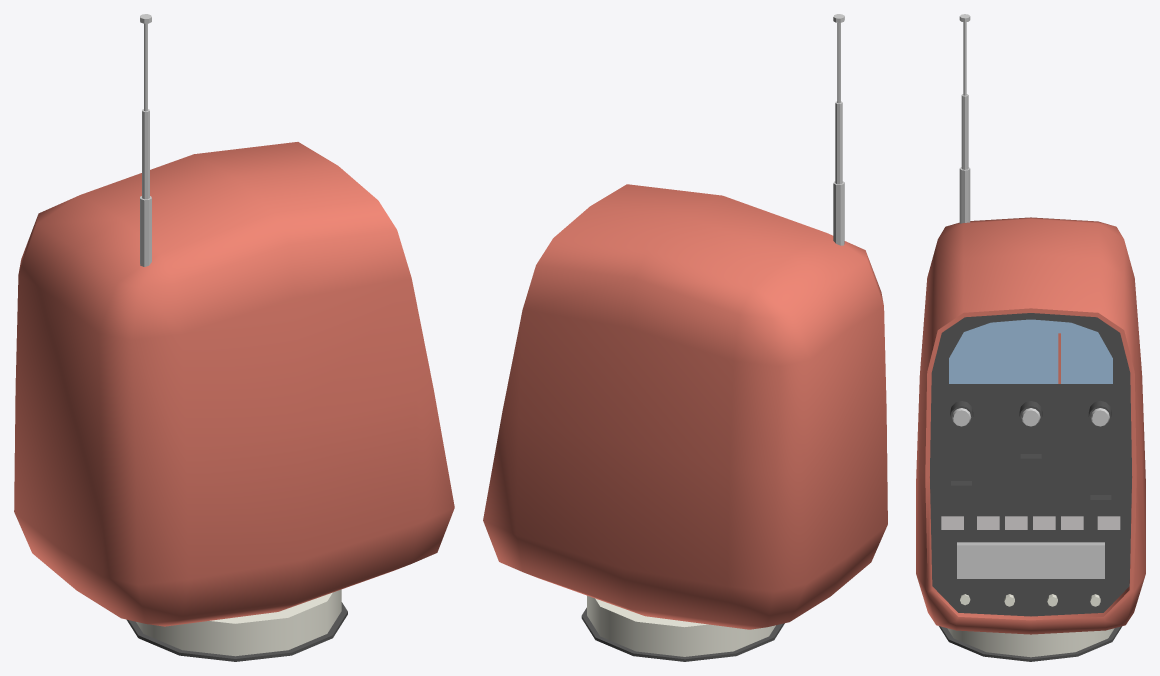
Rendered from RadioOfSezamEdited.fbx.
The picture shows the model from 3 angles, left to right: view 1: azimuth 30°, elevation 25°; view 2: azimuth 150°, elevation 25°; view 3: azimuth 270°, elevation 25°; orthographic projection. The views are drawn at different scales.
Parts seen in each view (by area): view 1: Display; view 2: Display; view 3: Display.
Boxes of the visible parts, x1,y1,x2,y2 form: Display: (14,14,454,661); Display: (483,14,887,661); Display: (916,14,1145,661).
Size of the model in its own units: 189 by 349 by 131.
